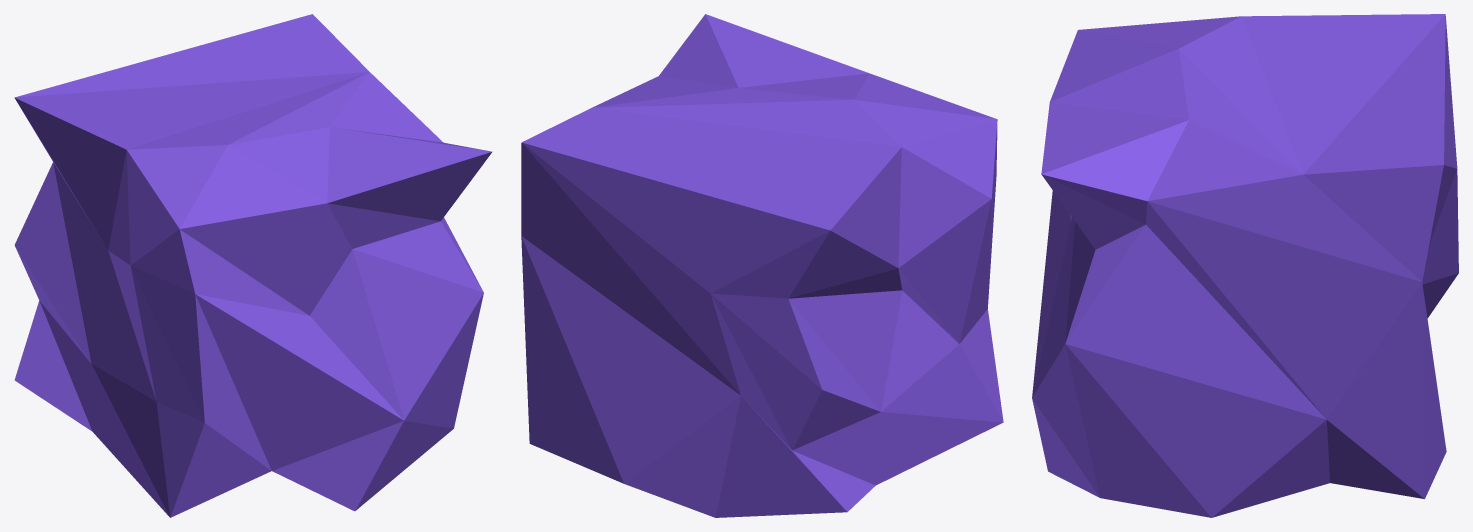
File: borosilicate.glb
3 views of the same model, side by side, from view 1: azimuth 30°, elevation 25°; view 2: azimuth 150°, elevation 25°; view 3: azimuth 270°, elevation 25° (orthographic). The views are drawn at different scales.
Visible parts, largest first — view 1: Cube; view 2: Cube; view 3: Cube.
Part boxes in pixels (x1,y1,x2,y2): Cube: (14,14,492,517); Cube: (521,14,1003,517); Cube: (1032,14,1458,517).
Size of the model in its own units: 1.18 by 1.18 by 1.19.
